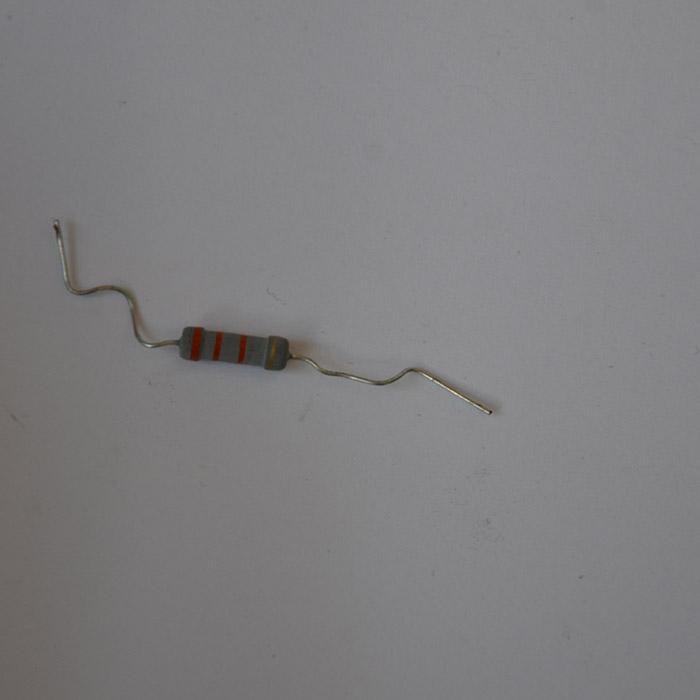resistor: (177, 325, 290, 369)
